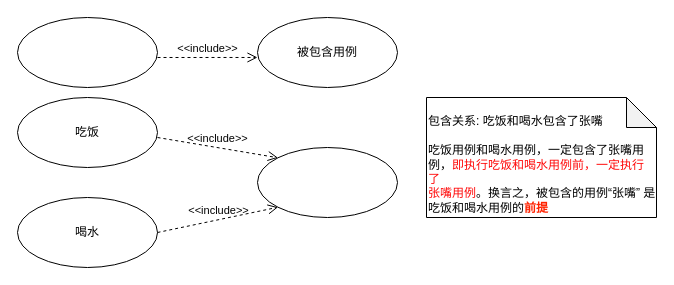
This 674x285 diagram has some shape labels left out. The shapes that lost their labels are listed below. From the top down, each one's centre as x and y in pixels, then its label:
At point 87,52: "基本用例".
At point 327,182: "张嘴".
